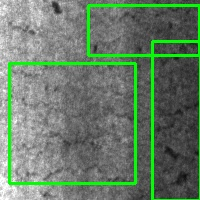crazing: (9, 63, 135, 183), (152, 41, 200, 200), (88, 5, 199, 55)
